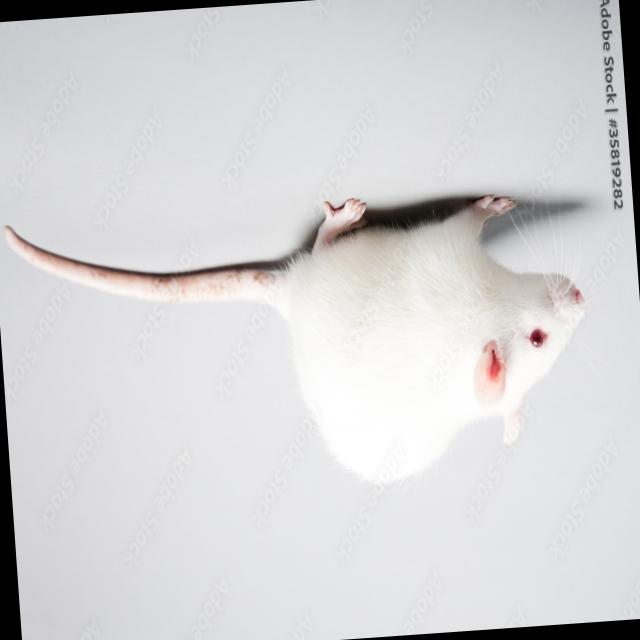rodents: (250, 132, 608, 496)
